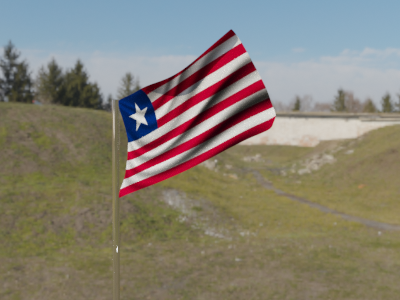Liberia flag: (117, 28, 281, 201)
